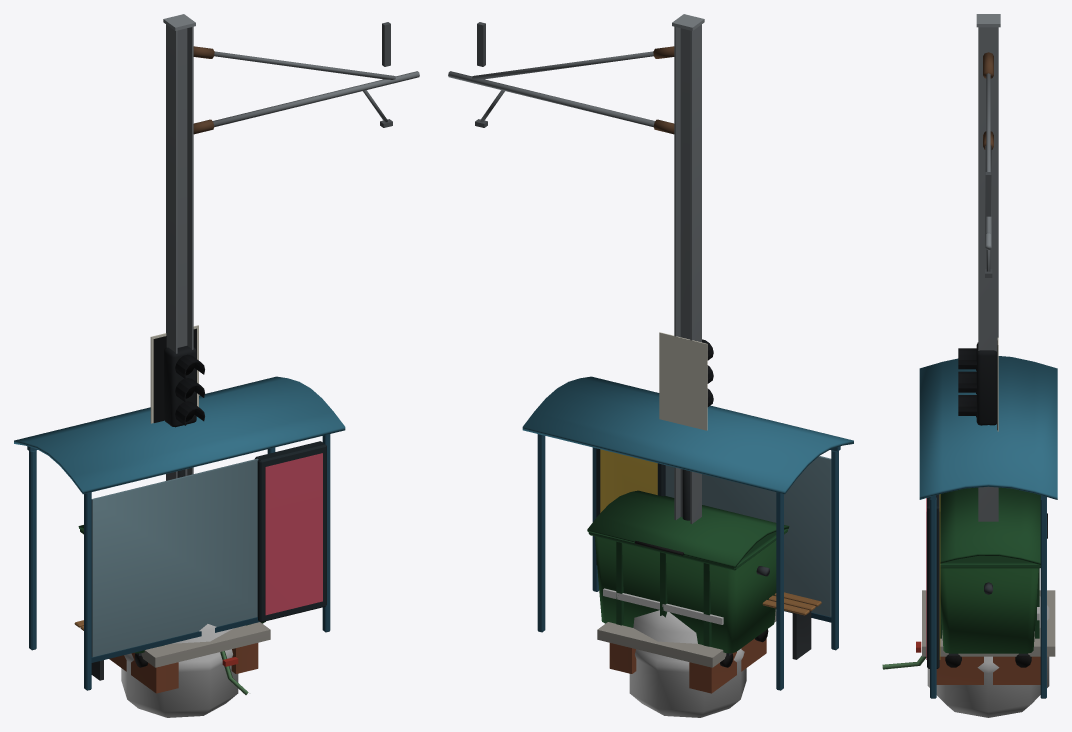
Rendered from mobiliario.glb.
The picture shows the model from 3 angles, left to right: view 1: azimuth 30°, elevation 25°; view 2: azimuth 150°, elevation 25°; view 3: azimuth 270°, elevation 25°; orthographic projection.
Visible parts, largest first — view 1: refugio, catenaria, tanque, tanque_base, semaforo; view 2: refugio, contenedor, catenaria, tanque, semaforo, tanque_base; view 3: refugio, contenedor, catenaria, tanque_base, tanque, semaforo.
Boxes of the visible parts, bbox=[...] form: refugio: bbox=[14, 376, 345, 690]; catenaria: bbox=[163, 14, 419, 480]; tanque: bbox=[121, 624, 238, 717]; tanque_base: bbox=[109, 622, 270, 694]; semaforo: bbox=[150, 325, 204, 477]; refugio: bbox=[522, 376, 853, 690]; contenedor: bbox=[587, 490, 789, 667]; catenaria: bbox=[448, 14, 704, 523]; tanque: bbox=[629, 610, 746, 717]; semaforo: bbox=[659, 332, 713, 520]; tanque_base: bbox=[597, 609, 776, 693]; refugio: bbox=[919, 356, 1057, 698]; contenedor: bbox=[940, 487, 1047, 667]; catenaria: bbox=[976, 14, 1000, 521]; tanque_base: bbox=[882, 590, 1055, 684]; tanque: bbox=[927, 596, 1049, 717]; semaforo: bbox=[958, 337, 998, 431].
Bounding box in the file's own units: 4.65 × 8.14 × 1.9.
